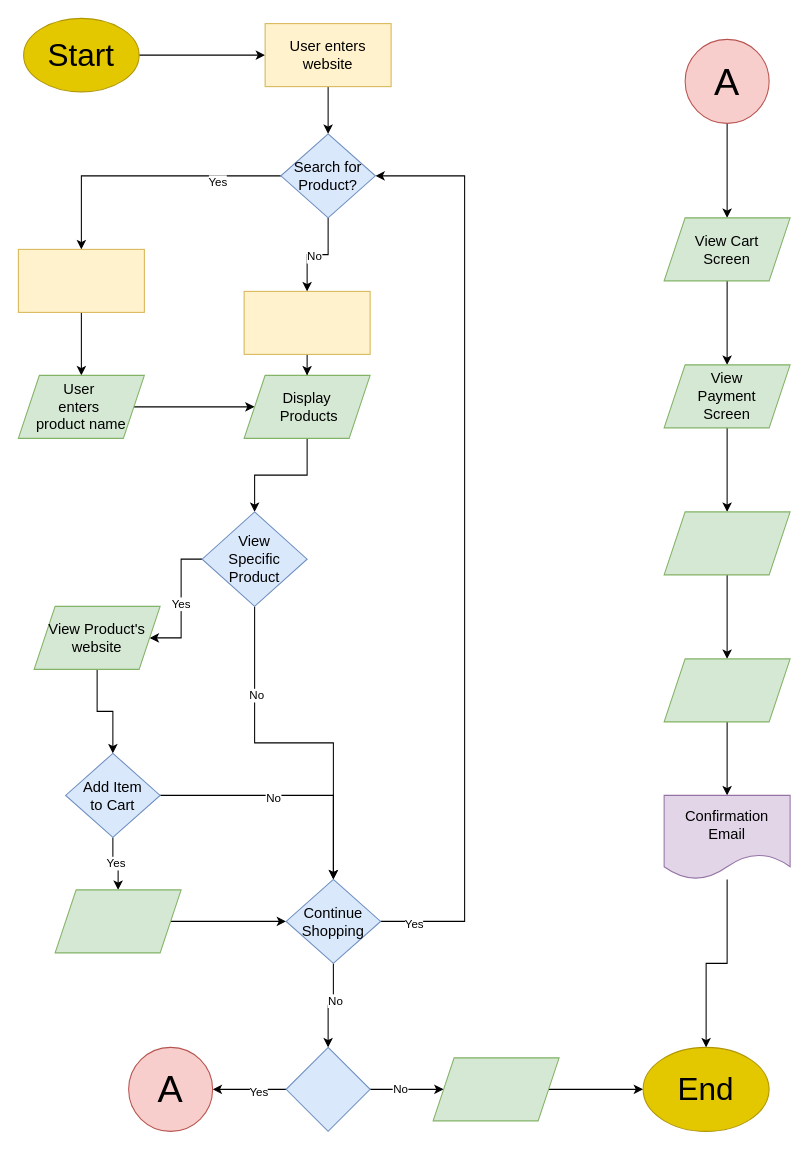
The diagram is 808 pixels wide and 1150 high, and some of its shapes have lost their labels. Here are the shapes that lost their labels. From the top down, the box of each, then its label:
(17, 248, 144, 312): User searches for a product
(243, 290, 370, 354): User explores products on homepage
(663, 511, 790, 575): User enters Payment information
(663, 658, 790, 722): Order Confirmation Screen
(54, 889, 181, 953): Added to Cart Confirmation
(285, 1046, 370, 1131): Checkout?
(432, 1057, 559, 1121): User Leaves Website
